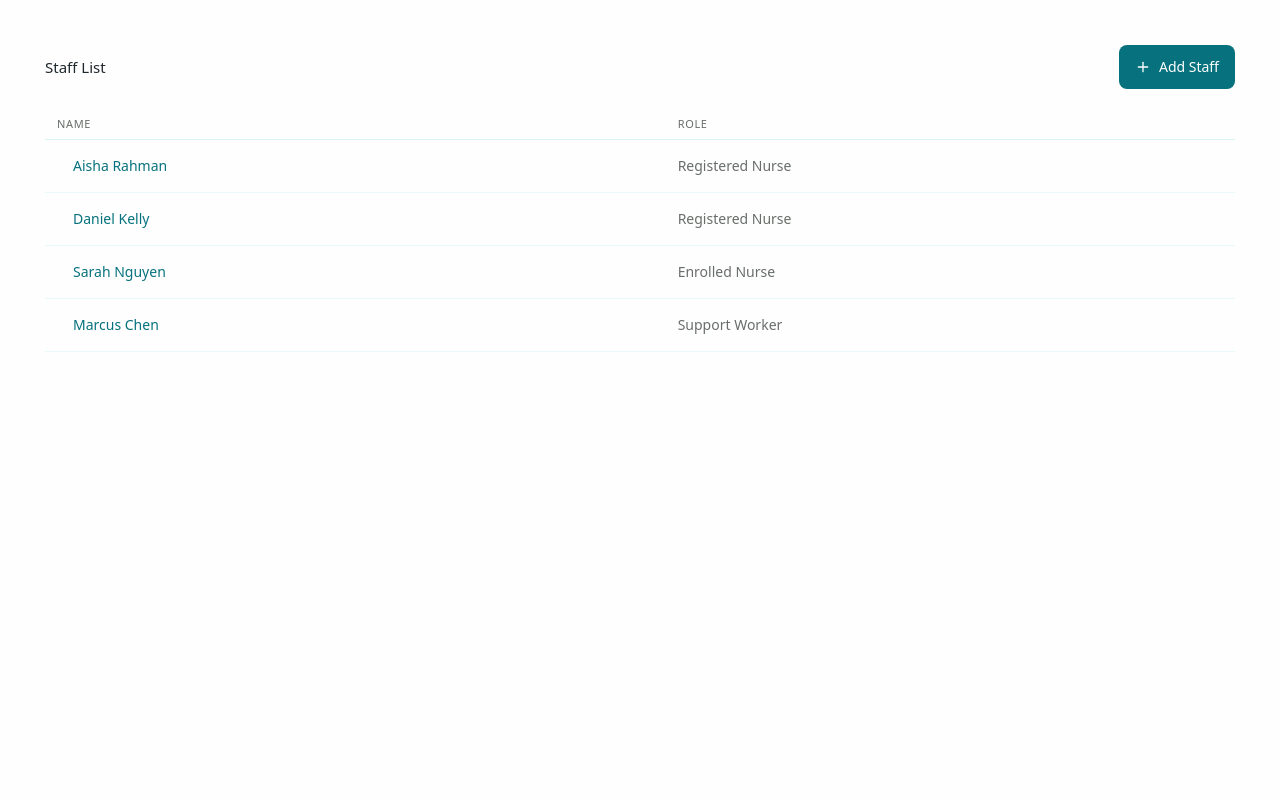
Test: Admin Staff › [ADM-02][AC-03] editing a different row discards unsaved draft changes
Click the button with aria-label "Edit Aisha Rahman" at (120, 166), box [57, 144, 183, 188]
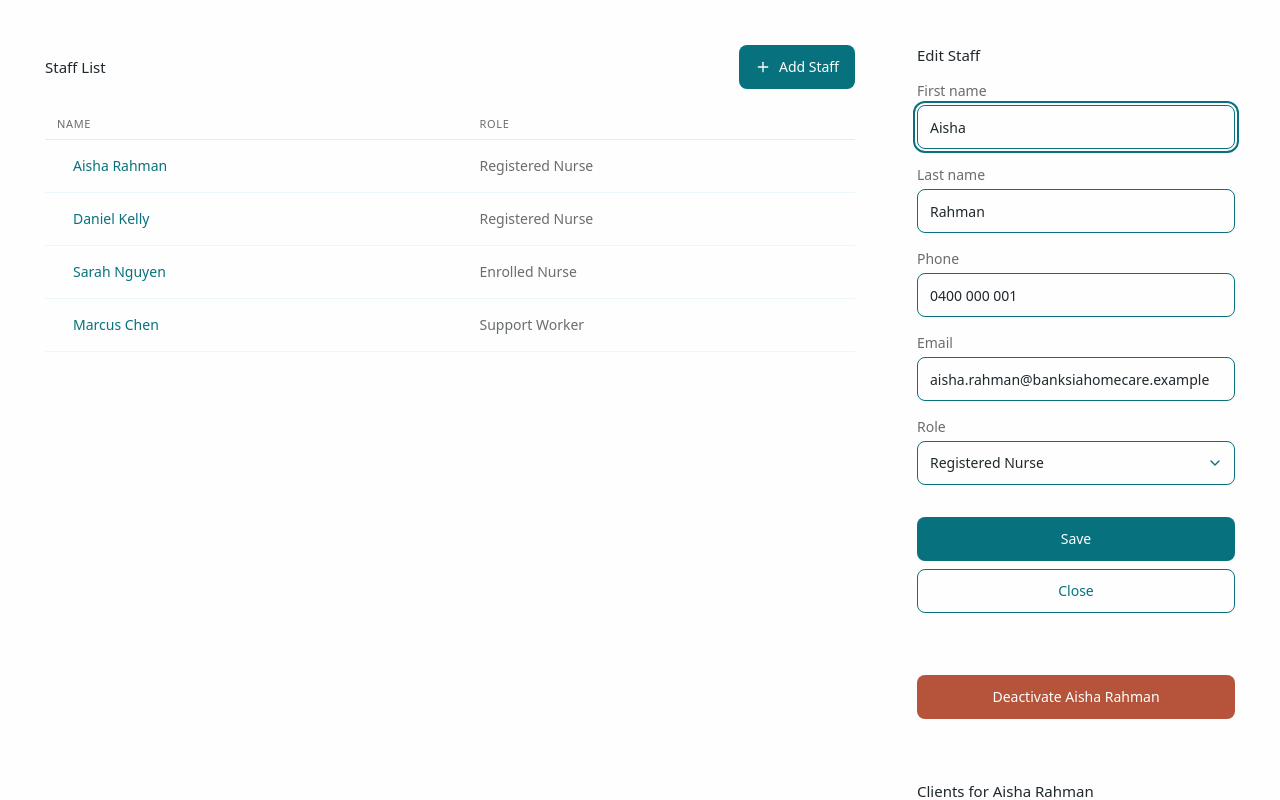
Replace the text in the field labelled "First name" with "Unsaved" at (1076, 127), box [917, 105, 1235, 149]
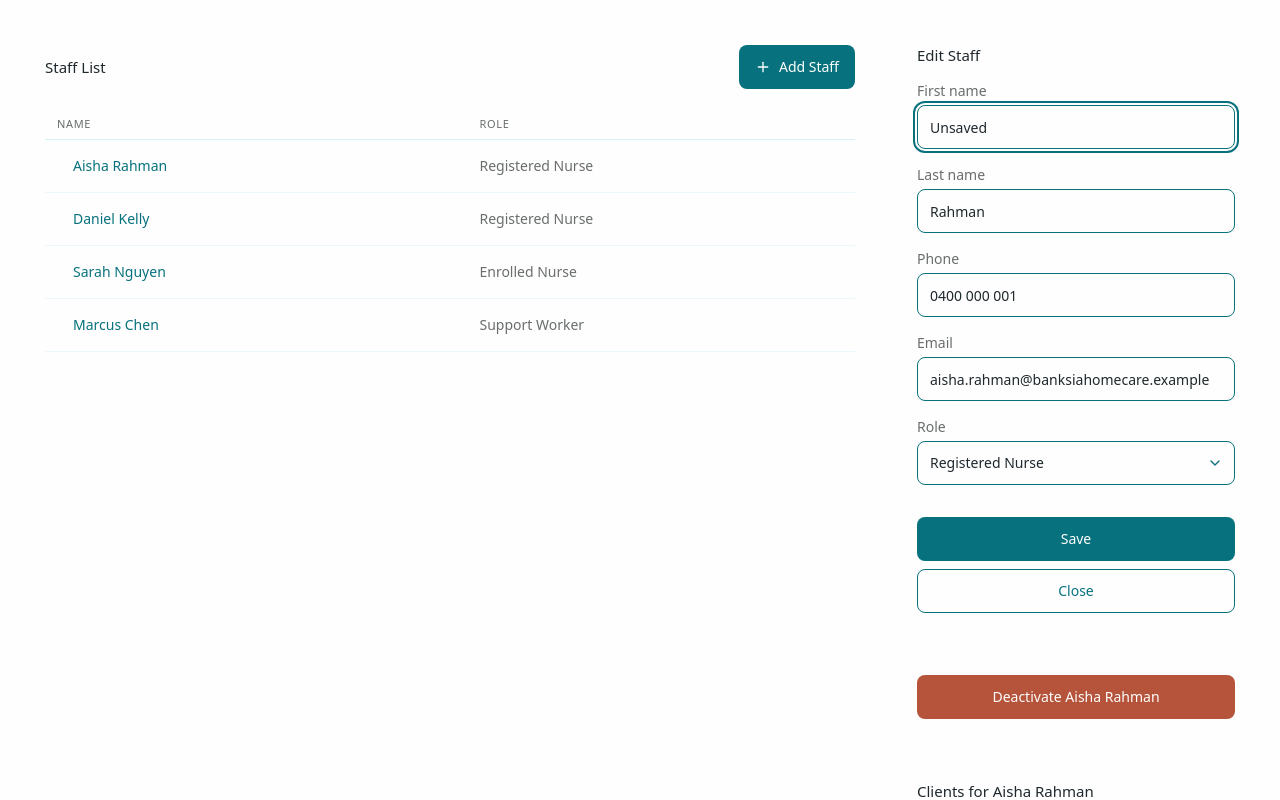
Click the button with aria-label "Edit Marcus Chen" at (116, 325), box [57, 303, 175, 347]
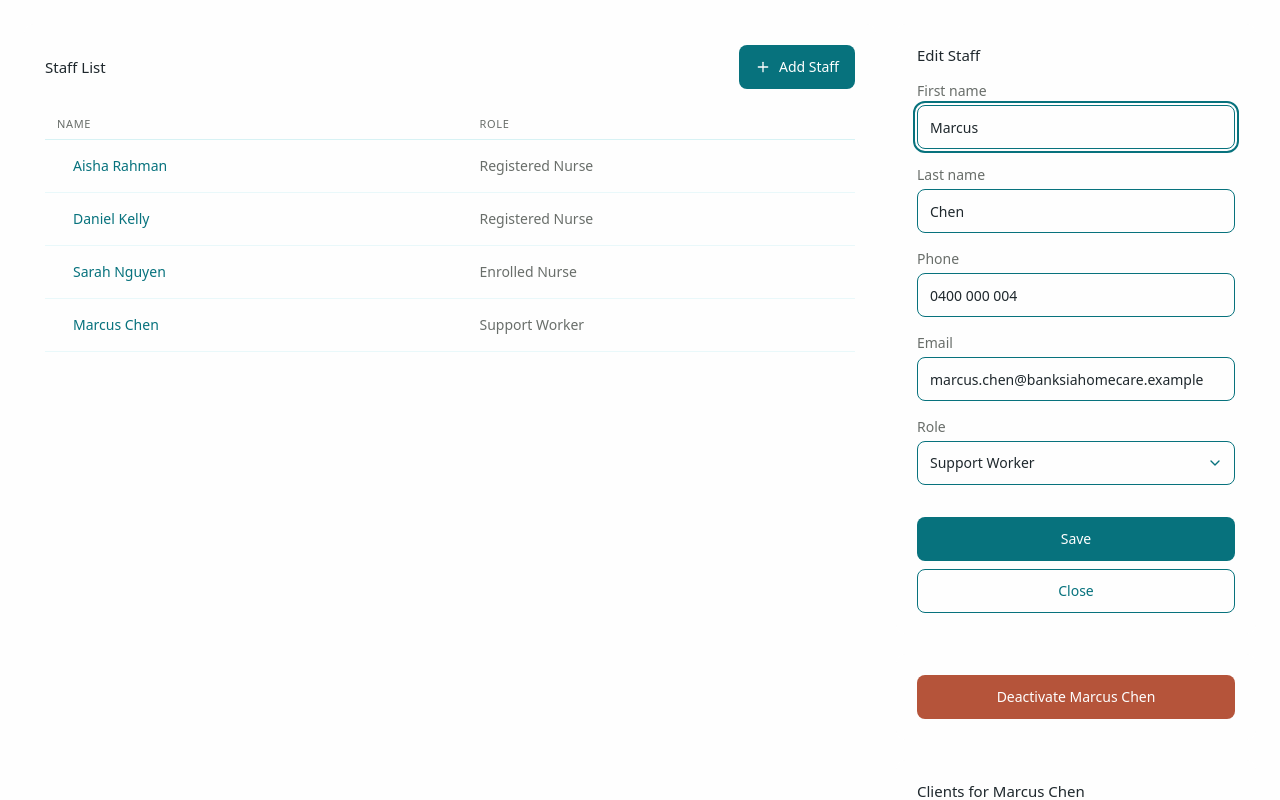
Expected: the row "Aisha Rahman Registered Nurse" is shown, [45, 140, 855, 192]
Now the field labelled "First name" holds "Marcus", box [917, 105, 1235, 149]
